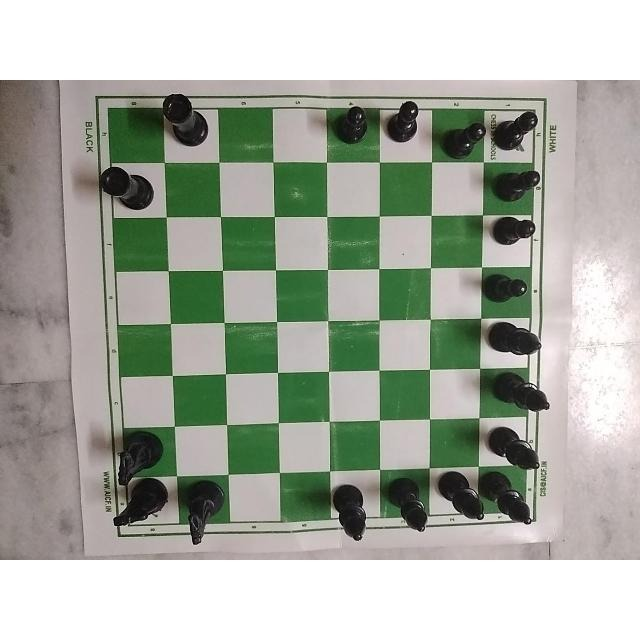black-bishop: (479, 465, 545, 535), (323, 478, 379, 546), (432, 468, 492, 530), (484, 370, 554, 422), (384, 474, 436, 538), (487, 419, 543, 476), (479, 324, 553, 366)
black-knight: (110, 475, 174, 536), (112, 428, 162, 494), (180, 478, 228, 546)
black-pawn: (438, 115, 488, 161), (497, 106, 543, 156), (377, 97, 421, 149), (492, 162, 548, 202), (484, 272, 528, 316), (332, 101, 370, 149), (493, 211, 541, 245)
black-rook: (162, 86, 213, 156), (96, 164, 158, 212)
